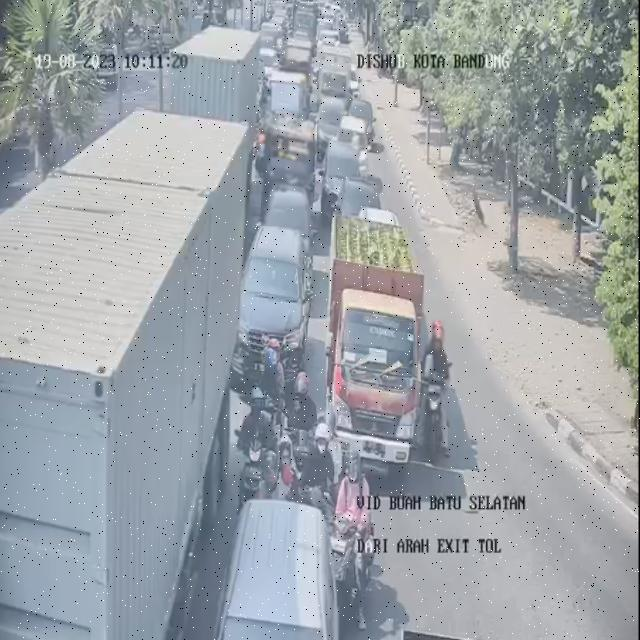cars: (210, 496, 342, 638), (236, 224, 312, 380), (261, 118, 313, 226), (265, 185, 313, 257), (322, 138, 358, 214), (338, 174, 378, 230), (337, 116, 367, 170), (319, 64, 351, 114), (317, 96, 342, 152), (294, 3, 316, 56), (286, 46, 312, 88), (253, 44, 276, 86), (256, 32, 276, 56), (263, 25, 280, 44)
motorcycle: (332, 453, 382, 597), (240, 390, 274, 498), (422, 318, 452, 426), (257, 130, 270, 200), (259, 91, 270, 134)
truck: (0, 110, 249, 639), (321, 223, 419, 482), (171, 25, 259, 125), (265, 68, 309, 142)
